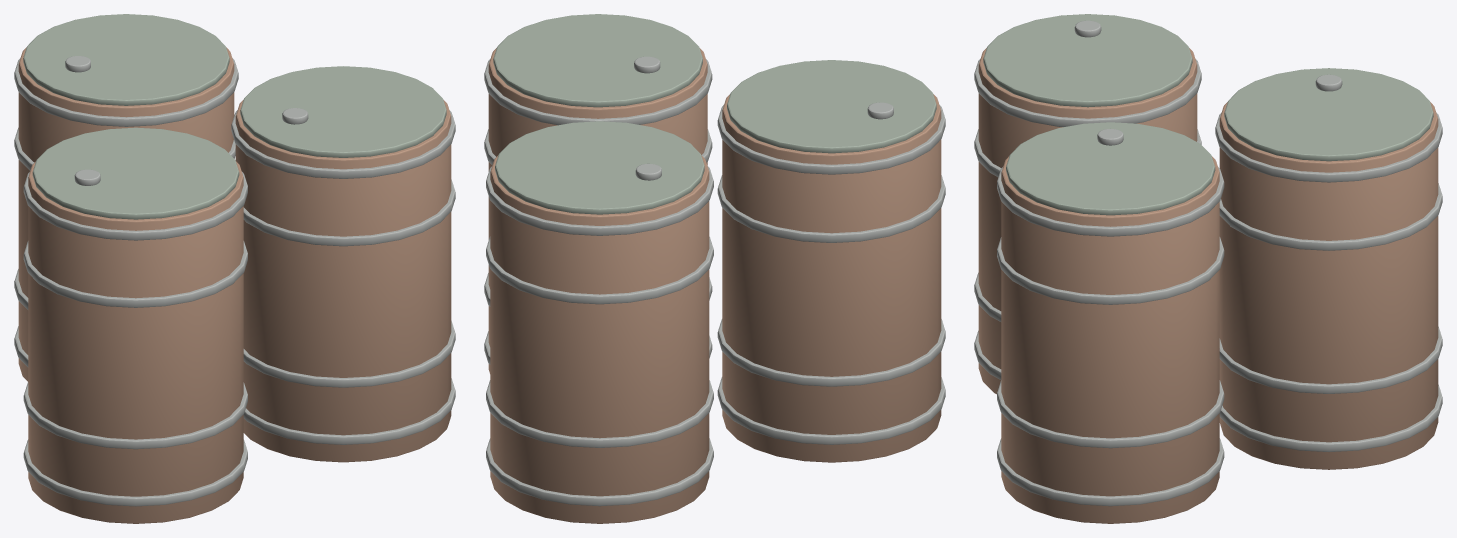
Rendered from F1_DrumGroup.fbx.
3 views of the same model, side by side, from view 1: azimuth 30°, elevation 25°; view 2: azimuth 150°, elevation 25°; view 3: azimuth 270°, elevation 25° (orthographic).
Parts seen in each view (by area): view 1: F1_DrumGroup_LOD0; view 2: F1_DrumGroup_LOD0; view 3: F1_DrumGroup_LOD0.
Part boxes in pixels (x1,y1,x2,y2): F1_DrumGroup_LOD0: (14, 14, 455, 523); F1_DrumGroup_LOD0: (484, 14, 945, 523); F1_DrumGroup_LOD0: (974, 14, 1442, 523).
Size of what is drawn, in the model's own units: 128 by 94 by 124.
